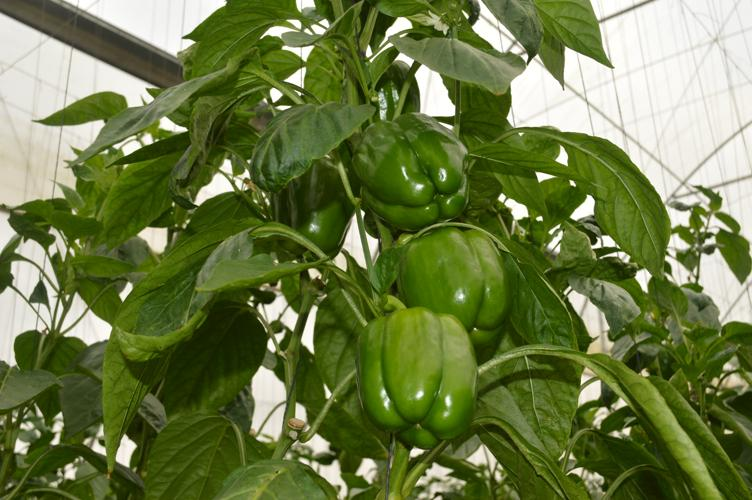BellPepper: (350, 300, 475, 450), (389, 217, 513, 339), (354, 103, 471, 226), (264, 130, 354, 269)
